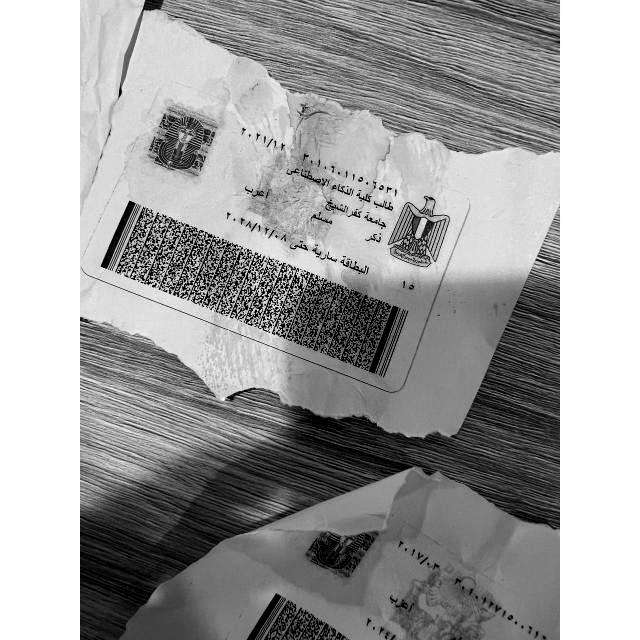id_card: (81, 11, 559, 434)
